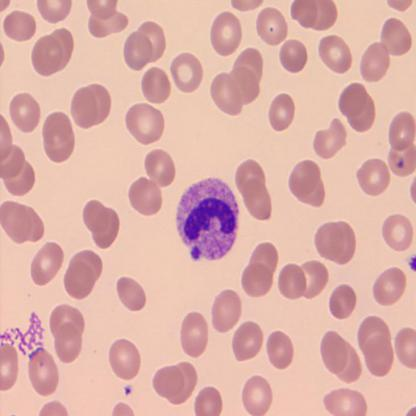Band Neutrophil: (174, 175, 241, 263)
